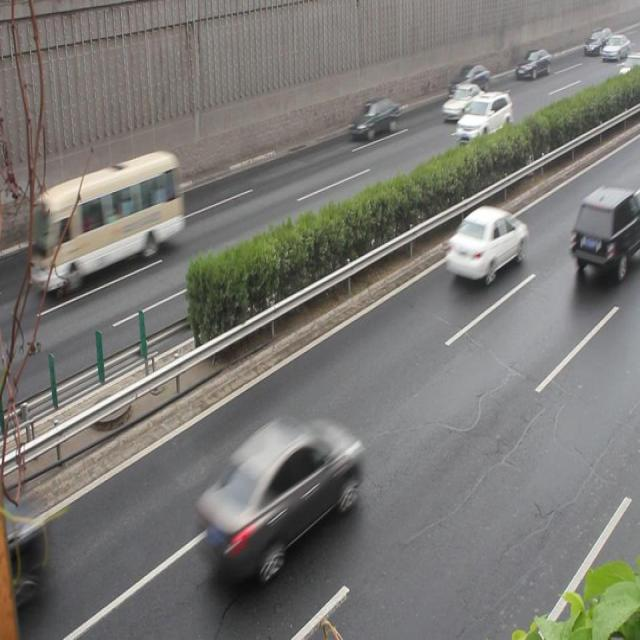car: (196, 416, 360, 574), (568, 185, 640, 281), (443, 203, 527, 283), (455, 90, 512, 141), (347, 96, 401, 140), (441, 82, 486, 121), (448, 62, 488, 96)
van: (29, 150, 180, 290)
